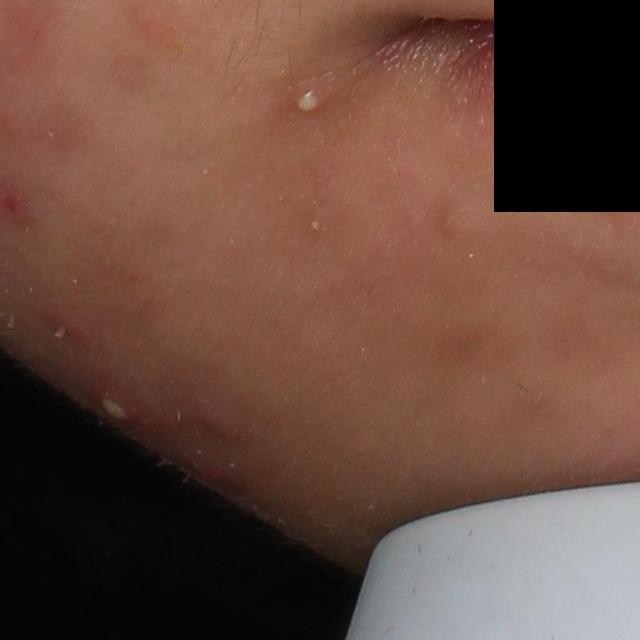comedo: (432, 199, 477, 242)
pustule: (95, 388, 136, 428), (290, 86, 324, 117)
